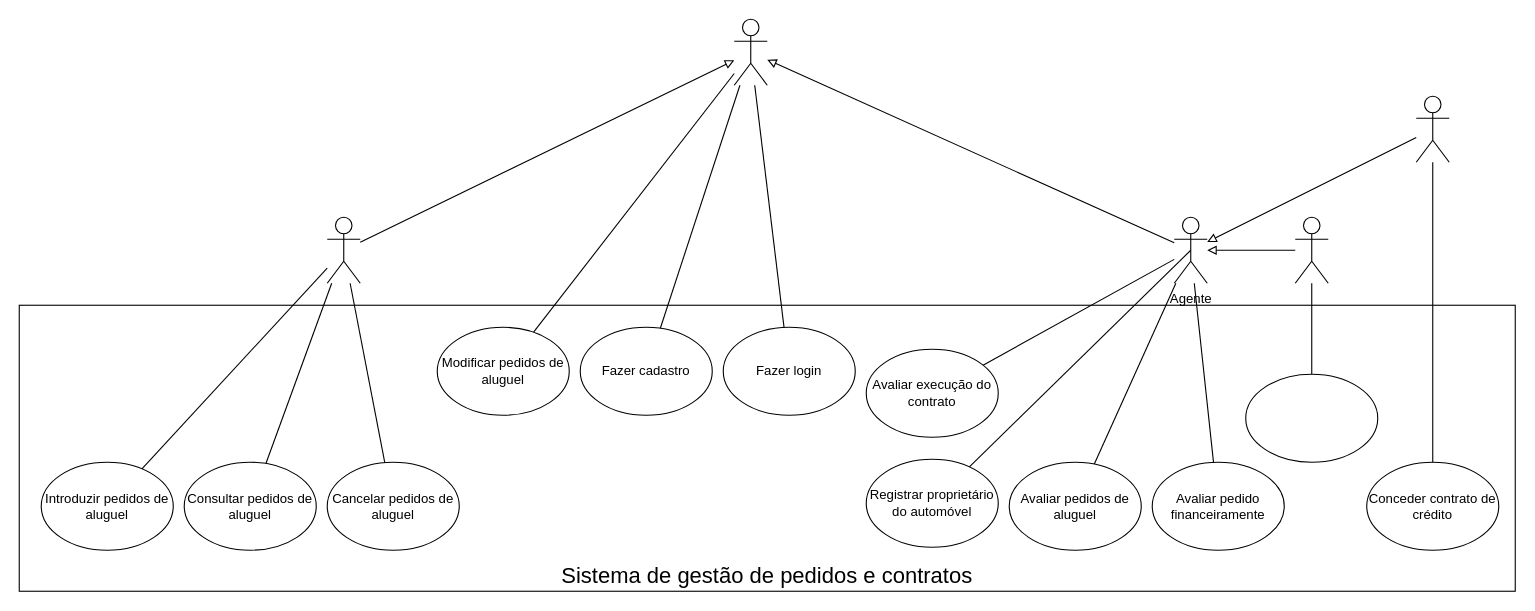
The diagram is 1535 pixels wide and 611 high, and some of its shapes have lost their labels. Each missing label, with the centre of its shape:
Banco: the point at 1432,128
Cadastrar automóvel: the point at 1311,417
Cliente: the point at 343,249
Empresa: the point at 1311,249
Usuário: the point at 750,51
